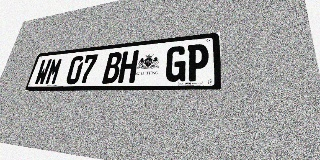0: (65, 55, 85, 84)
7: (78, 54, 98, 84)
B: (102, 52, 123, 83)
G: (164, 45, 187, 82)
H: (118, 50, 139, 83)
M: (44, 58, 64, 85)
P: (186, 43, 209, 81)
W: (33, 59, 52, 85)
